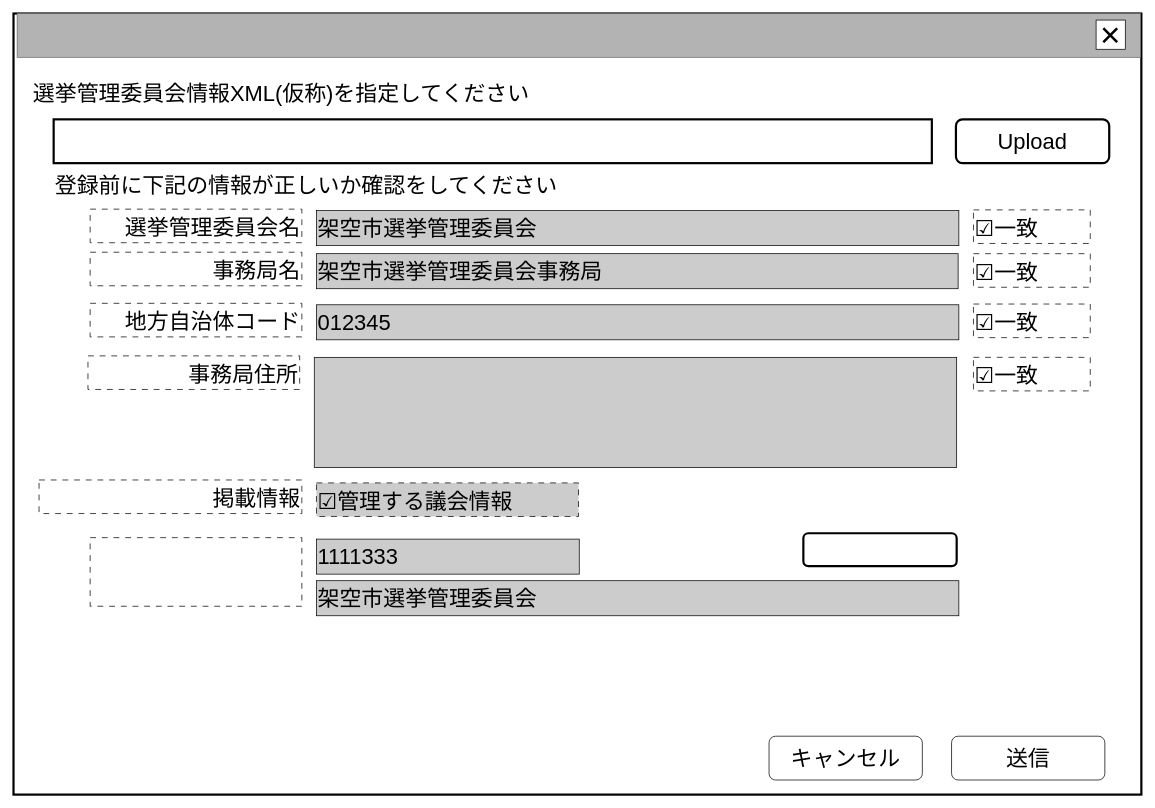
Image size: 1155x808. Some labels were removed from this diagram. Each missing label, with the centre of its shape:
"東京都千代田区霞ケ浦999番地" goes at point (635, 412).
"検索" goes at point (879, 549).
"結びつける 選挙管理員会" goes at point (195, 571).
